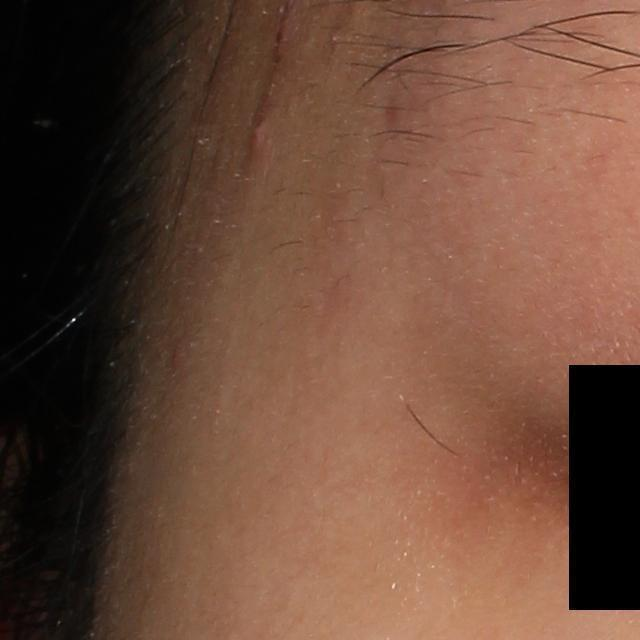papule: (240, 110, 270, 155), (269, 13, 293, 58)
